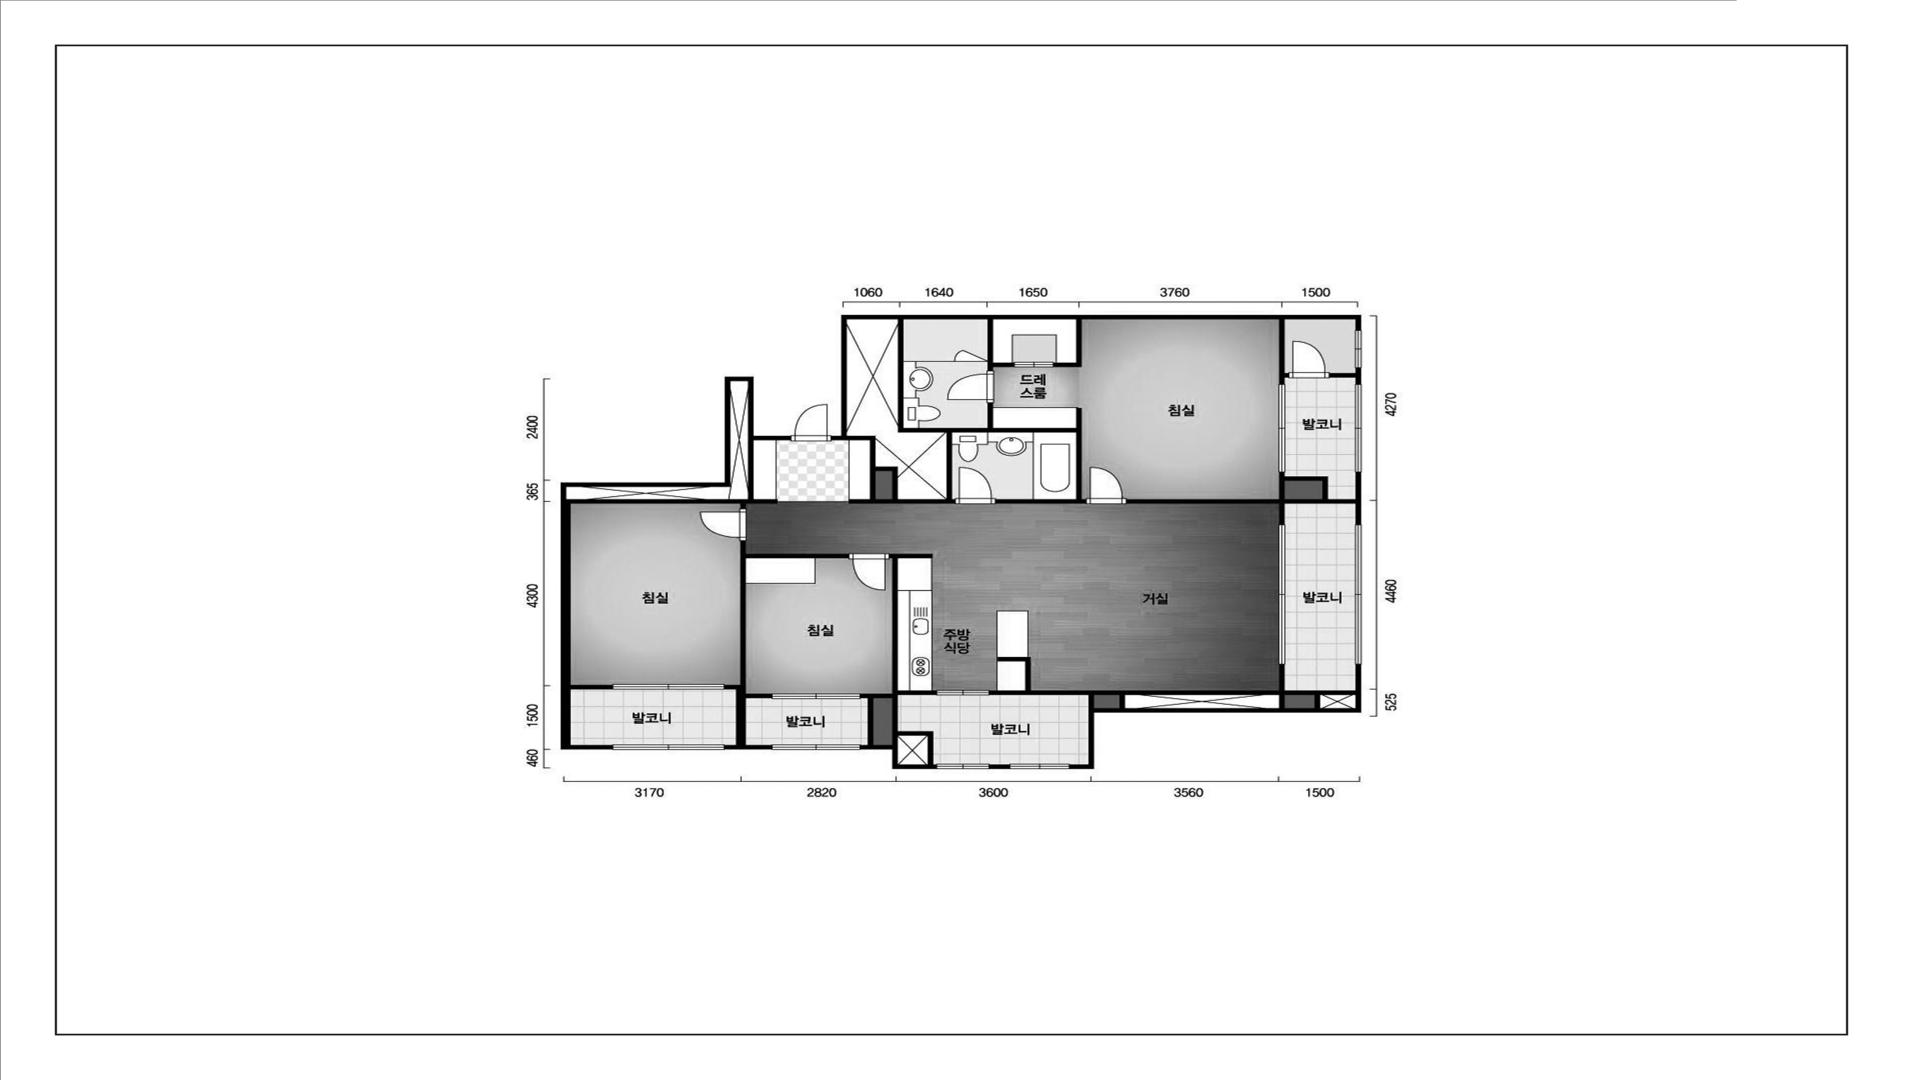background: (0, 0, 1920, 1080)
door: (945, 371, 994, 404), (1288, 340, 1329, 378), (791, 404, 831, 442), (849, 554, 890, 591), (955, 467, 996, 504), (699, 509, 746, 541), (1087, 467, 1126, 504), (953, 349, 988, 361), (1014, 361, 1054, 368)
wall: (560, 483, 571, 745), (736, 541, 746, 745), (847, 315, 1361, 319), (989, 691, 1356, 695), (1088, 708, 1356, 713), (891, 558, 898, 745), (898, 427, 1076, 433), (1126, 500, 1356, 504), (571, 500, 778, 504), (566, 483, 731, 487), (841, 315, 847, 436), (1279, 319, 1288, 384), (898, 319, 903, 429), (848, 498, 955, 504), (725, 377, 731, 483), (1076, 407, 1081, 500), (746, 554, 849, 558), (1088, 712, 1095, 769), (996, 500, 1087, 504), (947, 433, 952, 500), (870, 435, 876, 498), (748, 381, 753, 440), (748, 440, 753, 500), (868, 698, 874, 745), (1356, 472, 1361, 525), (988, 319, 993, 371), (1356, 665, 1361, 713), (1076, 319, 1081, 363), (1284, 476, 1328, 481), (571, 684, 612, 690), (560, 745, 613, 749), (754, 435, 791, 440), (724, 745, 773, 749), (1025, 662, 1031, 691), (898, 731, 934, 736), (891, 471, 898, 498), (997, 657, 1031, 662), (893, 765, 936, 769), (890, 554, 932, 558), (928, 736, 934, 765), (898, 691, 936, 695), (1279, 472, 1284, 500), (988, 402, 993, 429), (1279, 665, 1284, 690), (860, 694, 893, 698), (860, 745, 891, 749), (847, 435, 870, 440), (1279, 504, 1284, 525), (1054, 363, 1081, 367), (893, 745, 898, 765), (1329, 373, 1356, 377), (746, 694, 771, 698), (1323, 481, 1328, 500), (731, 377, 753, 381), (876, 467, 898, 471), (1088, 695, 1095, 708), (1356, 368, 1361, 384), (989, 765, 1010, 769), (993, 363, 1014, 367), (831, 435, 847, 440), (1069, 765, 1089, 769), (1279, 695, 1284, 708), (1315, 695, 1320, 708), (1120, 695, 1125, 708), (724, 684, 736, 690), (1356, 319, 1361, 330), (740, 504, 746, 509)
window: (1278, 525, 1286, 665), (1354, 524, 1361, 665), (1278, 384, 1286, 472), (1354, 384, 1362, 472), (612, 684, 724, 690), (613, 745, 724, 750), (773, 744, 860, 750), (771, 694, 860, 699), (1010, 764, 1069, 769), (1354, 330, 1362, 368), (936, 690, 989, 695), (936, 764, 989, 769)
